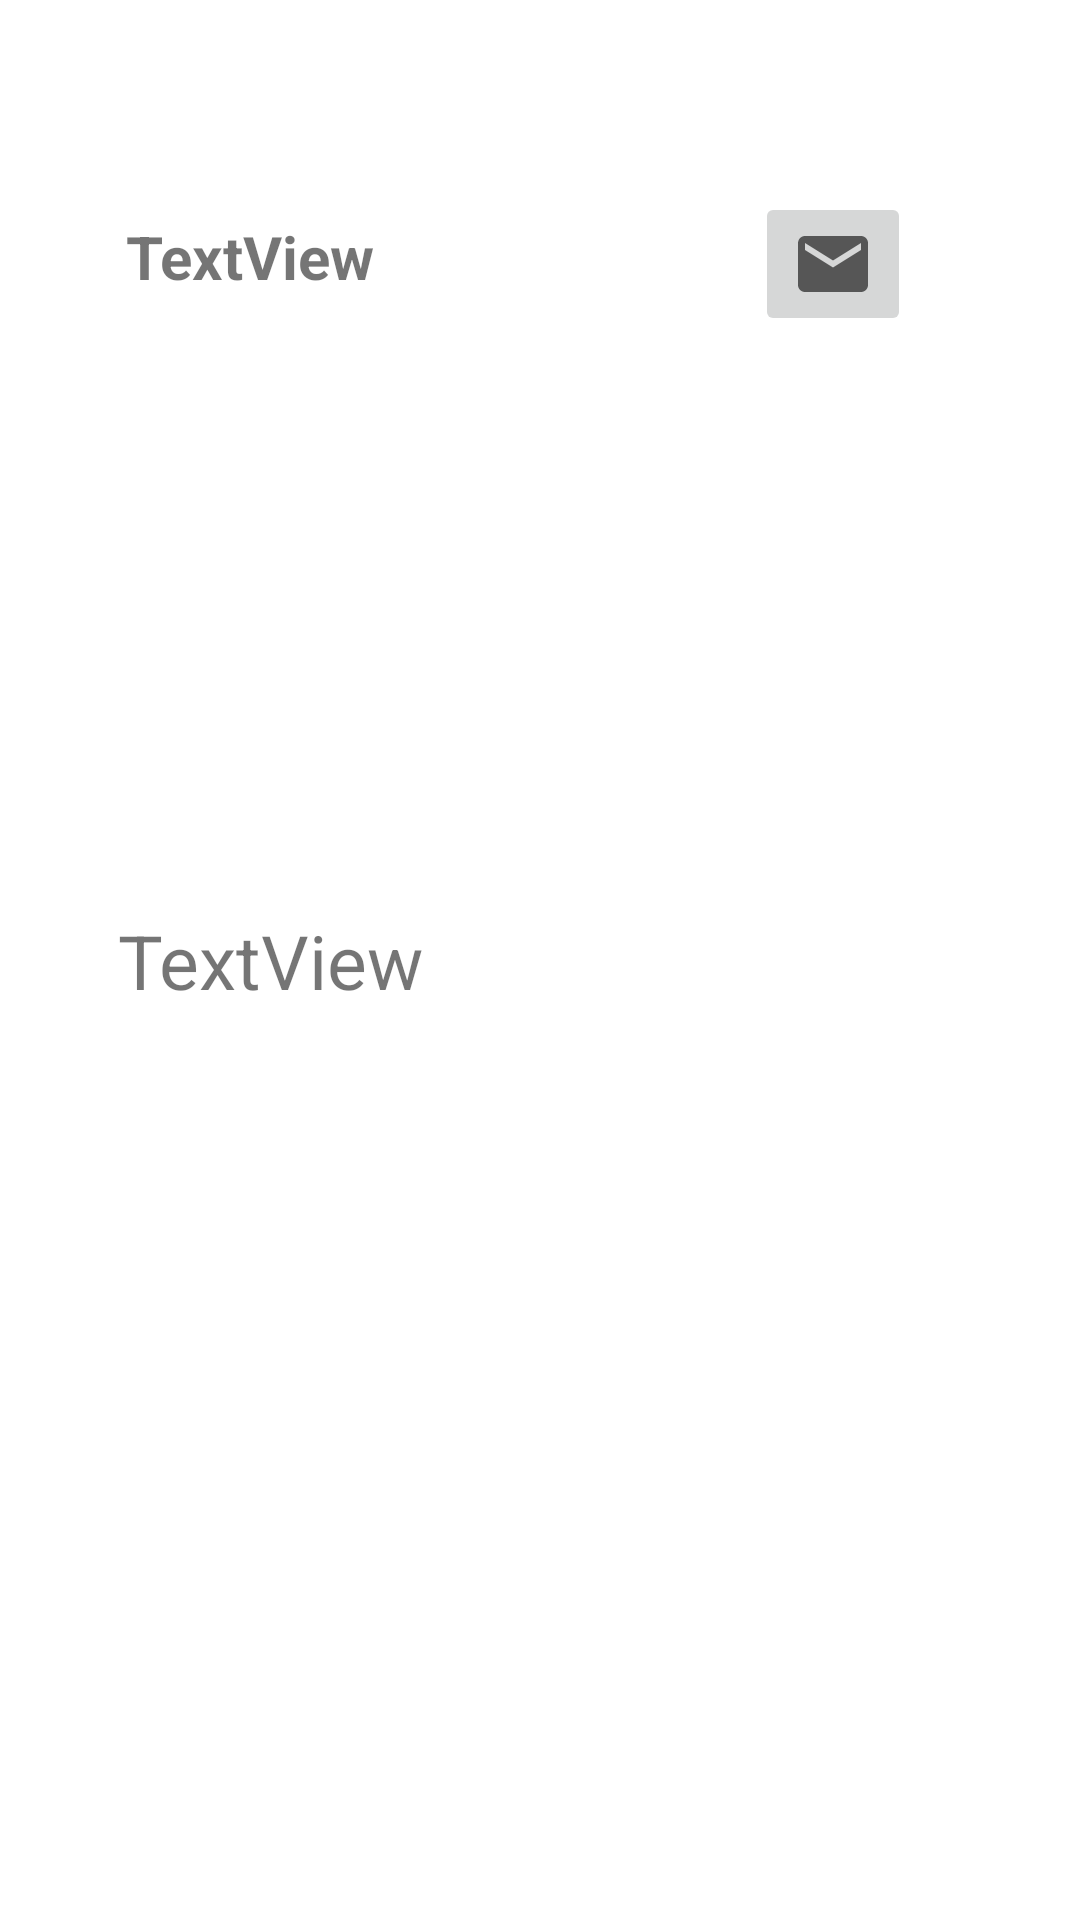

Screen size 1080 x 1920. Icon name, then its box in pixels as box(x1, y1, x2, y2):
email: box(767, 210, 899, 318)
